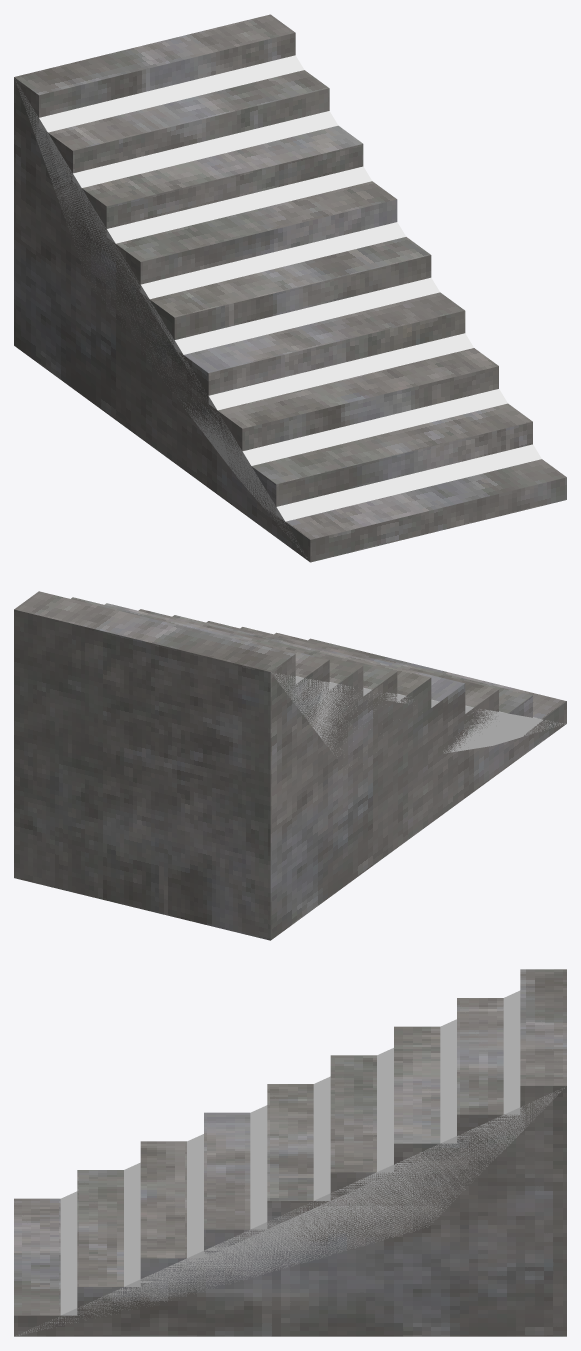
The model's file is stairs.glb.
The picture shows the model from 3 angles, top to bottom: view 1: azimuth 30°, elevation 25°; view 2: azimuth 150°, elevation 25°; view 3: azimuth 270°, elevation 25°; orthographic projection. The views are drawn at different scales.
Visible parts, largest first — view 1: Cube.001, Cube; view 2: Cube.001, Cube; view 3: Cube.001, Cube.
Part boxes in pixels (left/top/right/bottom): Cube.001: left=14, top=14, right=566, bottom=562; Cube: left=14, top=55, right=541, bottom=557; Cube.001: left=14, top=591, right=566, bottom=940; Cube: left=271, top=672, right=566, bottom=756; Cube.001: left=14, top=969, right=566, bottom=1336; Cube: left=16, top=990, right=564, bottom=1335.
Size of the model in its own units: 2 by 2 by 4.
1 material, 1 textured.
